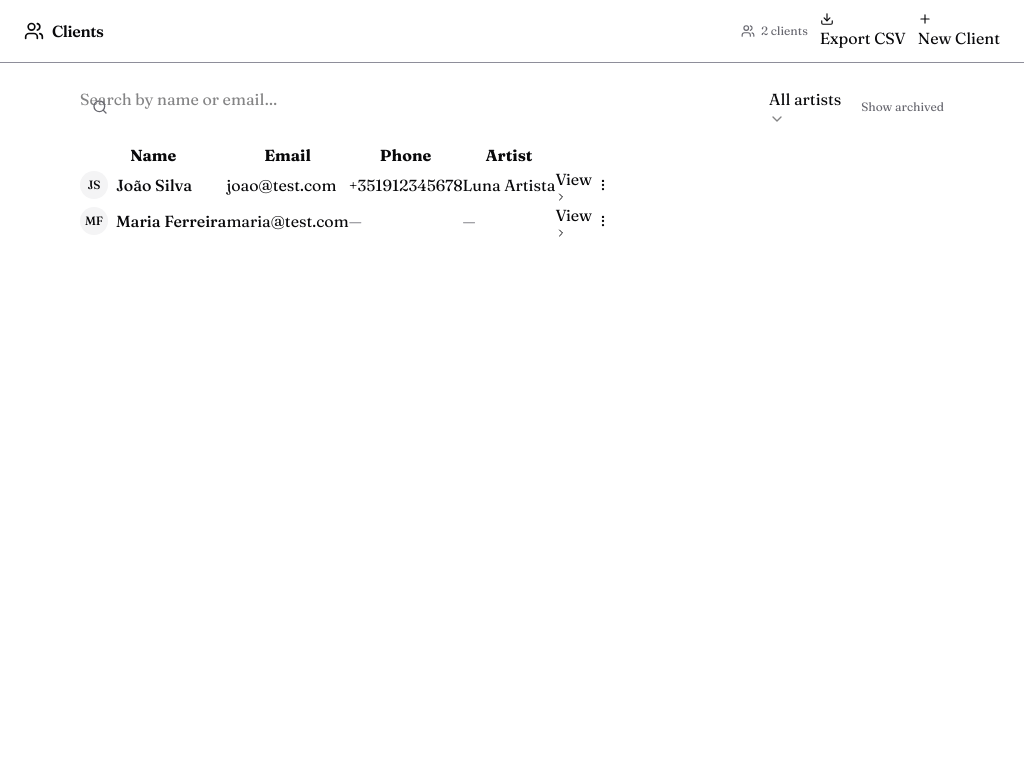
Test case: ClientListPage › shows an error toast when the CSV export fails
The width and height of the screenshot is (1024, 768).
Click the button "Export CSV": (863, 31) [820,12,906,50]
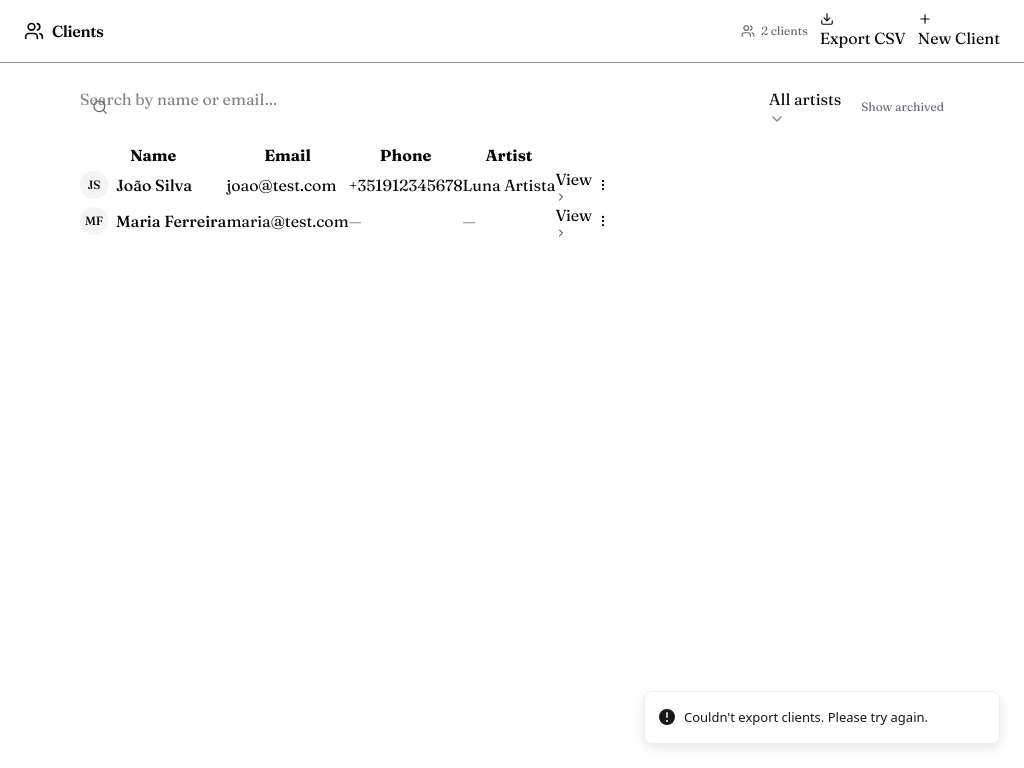
Expected: the text "Couldn't export clients. Please try again." is shown, [684,708,928,727]
